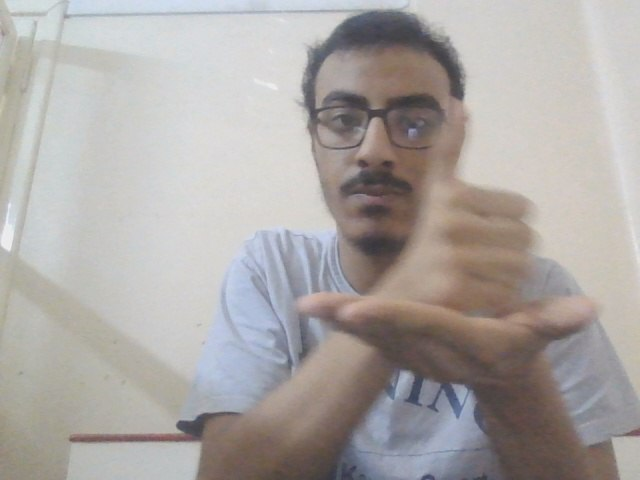Help: (287, 96, 608, 398)
